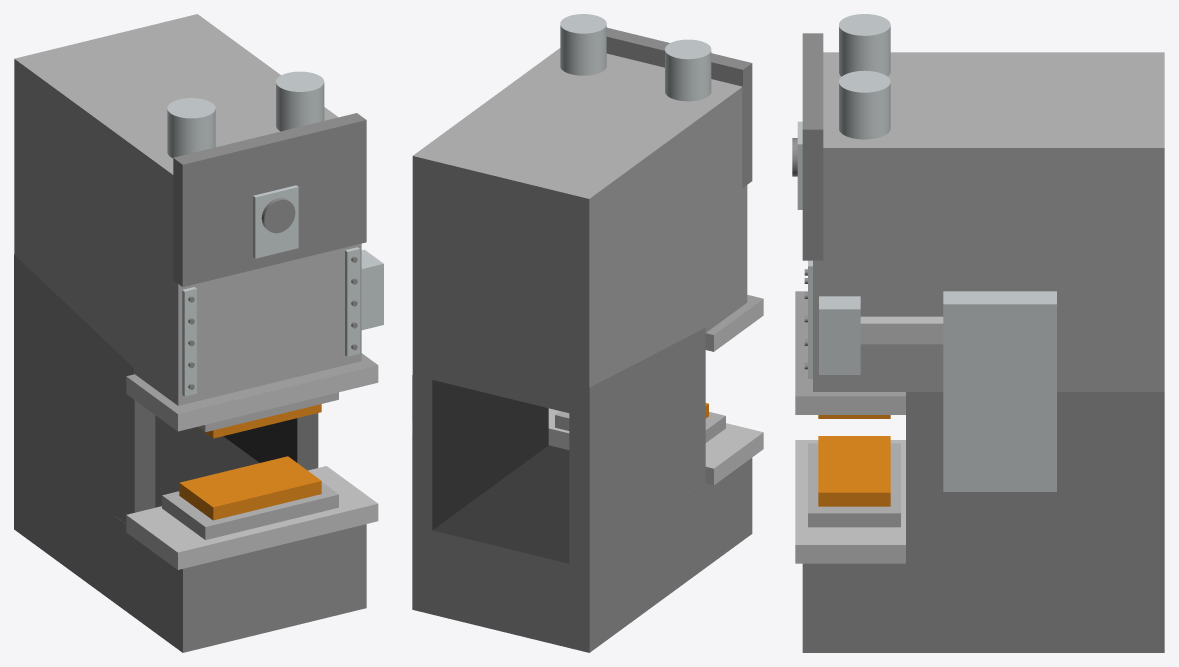
File: assembly.glb
The picture shows the model from 3 angles, left to right: view 1: azimuth 30°, elevation 25°; view 2: azimuth 150°, elevation 25°; view 3: azimuth 270°, elevation 25°; orthographic projection. The views are drawn at different scales.
Visible parts, largest first — view 1: 프레스부분, 아래, 아래프레스; view 2: 프레스부분, 아래; view 3: 프레스부분, 아래, 아래프레스.
Part boxes in pixels (bbox=[...]): 프레스부분: bbox=[14, 14, 383, 523]; 아래: bbox=[14, 254, 378, 652]; 아래프레스: bbox=[179, 456, 321, 520]; 프레스부분: bbox=[412, 14, 763, 546]; 아래: bbox=[412, 328, 763, 652]; 프레스부분: bbox=[792, 14, 1164, 559]; 아래: bbox=[795, 440, 1164, 652]; 아래프레스: bbox=[818, 436, 890, 506].
Size of the model in its own units: 2600 by 5885 by 3600.
